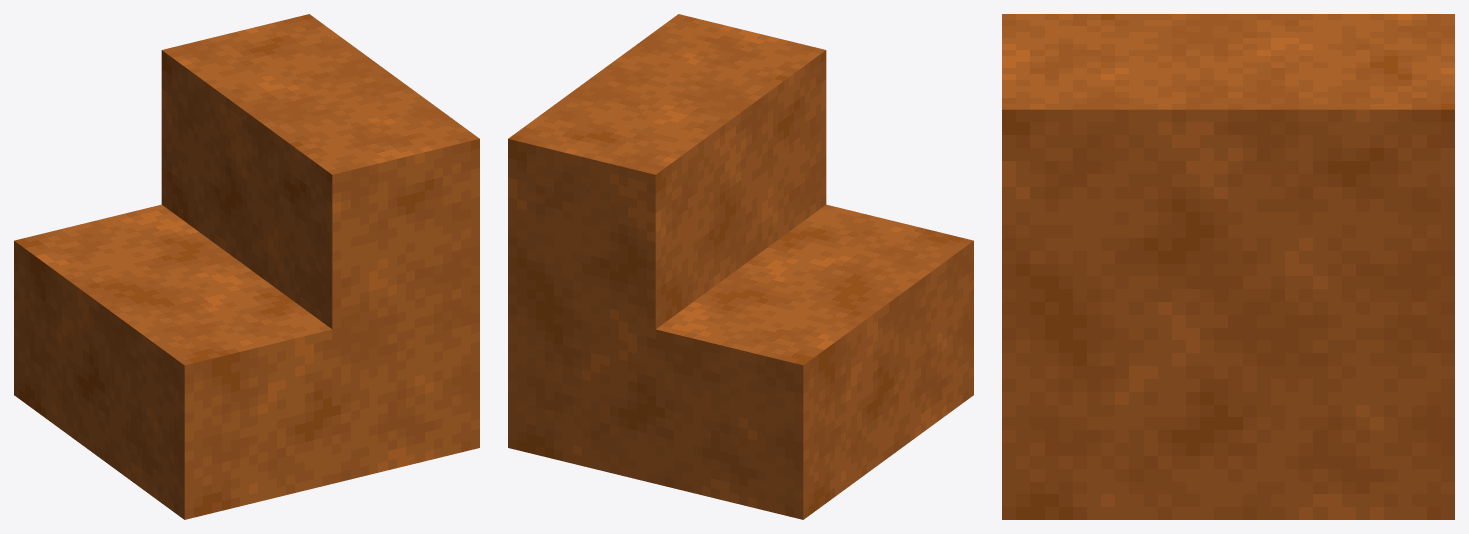
Rendered from block_smooth_red_sandstone_stairs.gltf.
3 renders of one model, left to right at view 1: azimuth 30°, elevation 25°; view 2: azimuth 150°, elevation 25°; view 3: azimuth 270°, elevation 25°, orthographic. The views are drawn at different scales.
Visible parts, largest first — view 1: cube (×2); view 2: cube (×2); view 3: cube (×2).
Part boxes in pixels (x1,y1,x2,y2): cube (×2): [14, 14, 479, 519]; cube (×2): [508, 14, 973, 519]; cube (×2): [1002, 14, 1454, 519].
Bounding box in the file's own units: 1 × 1 × 1.
1 material, 1 textured.
